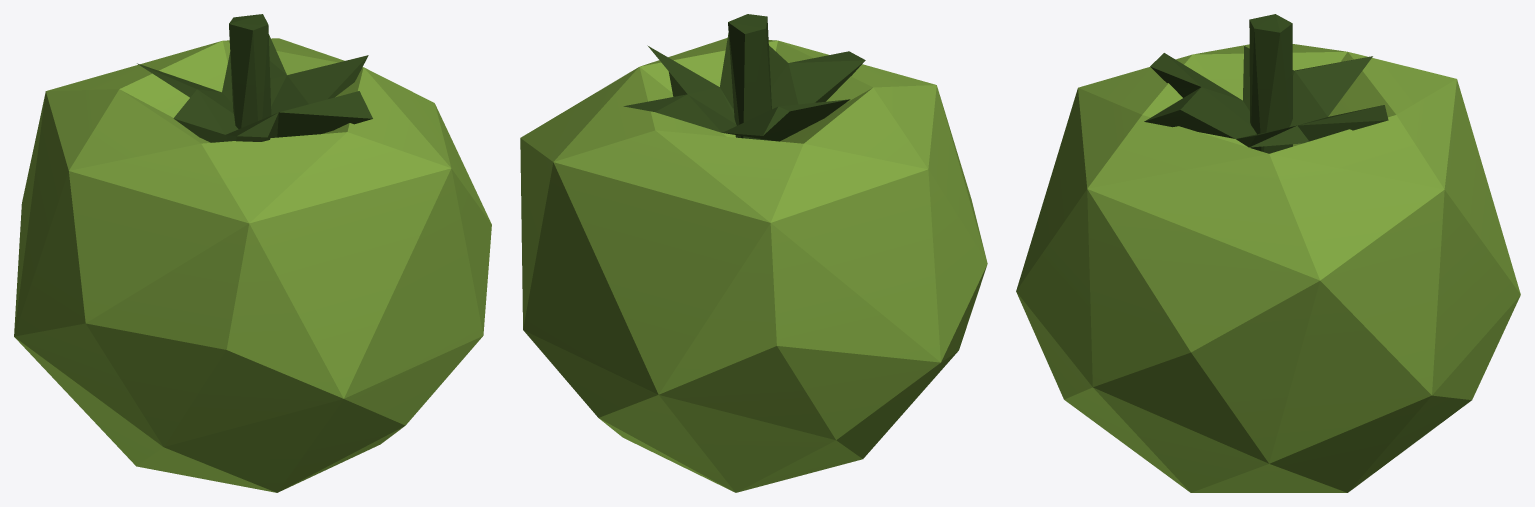
File: Tomato_01.fbx
The picture shows the model from 3 angles, left to right: view 1: azimuth 30°, elevation 25°; view 2: azimuth 150°, elevation 25°; view 3: azimuth 270°, elevation 25°; orthographic projection. The views are drawn at different scales.
Visible parts, largest first — view 1: Tomato_01; view 2: Tomato_01; view 3: Tomato_01.
Part boxes in pixels (x1,y1,x2,y2): Tomato_01: (14, 14, 491, 492); Tomato_01: (520, 14, 987, 492); Tomato_01: (1016, 14, 1520, 492).
Bounding box in the file's own units: 0.1707 × 0.1729 × 0.1729.
